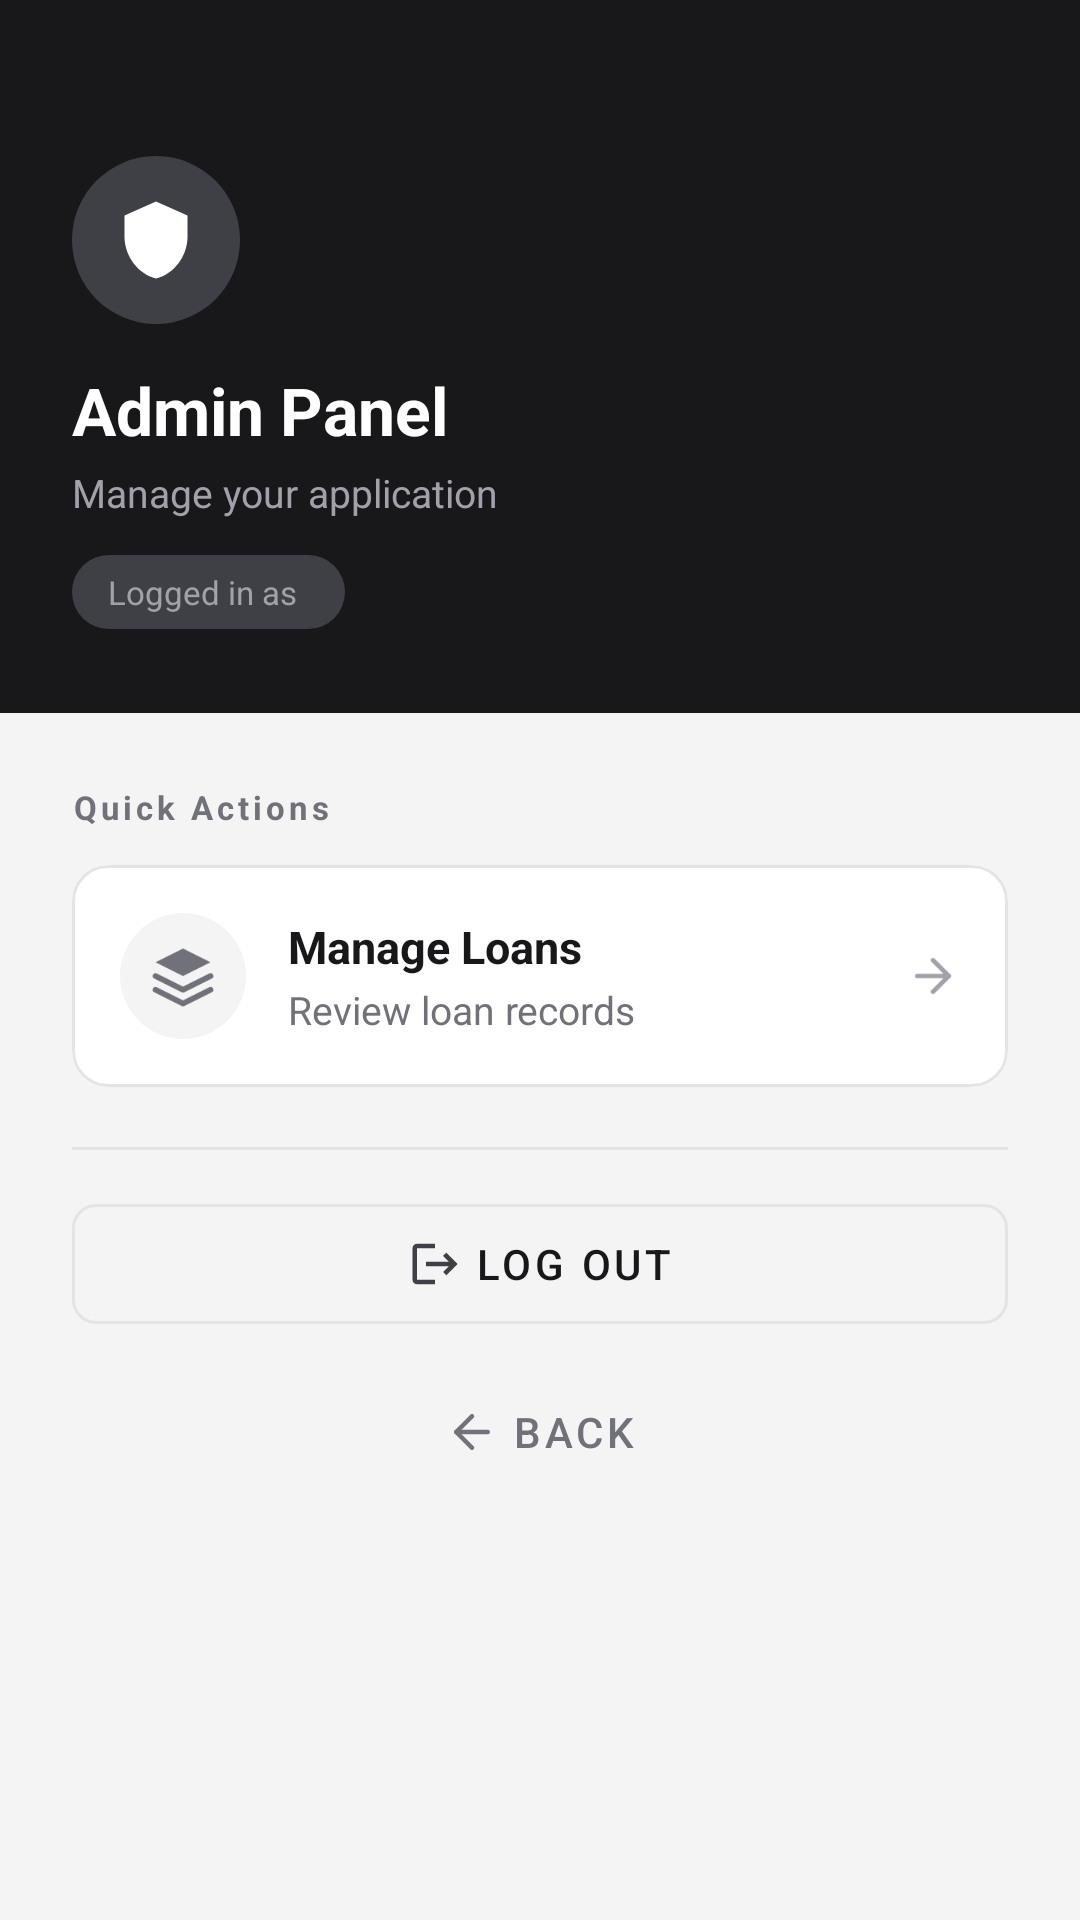

Locate icon controls on the screen. Image size 1080 × 1920, boxes as bbox(x1, y1, x2, y2).
arrow right: bbox(915, 958, 951, 994)
shield: bbox(124, 201, 188, 279)
